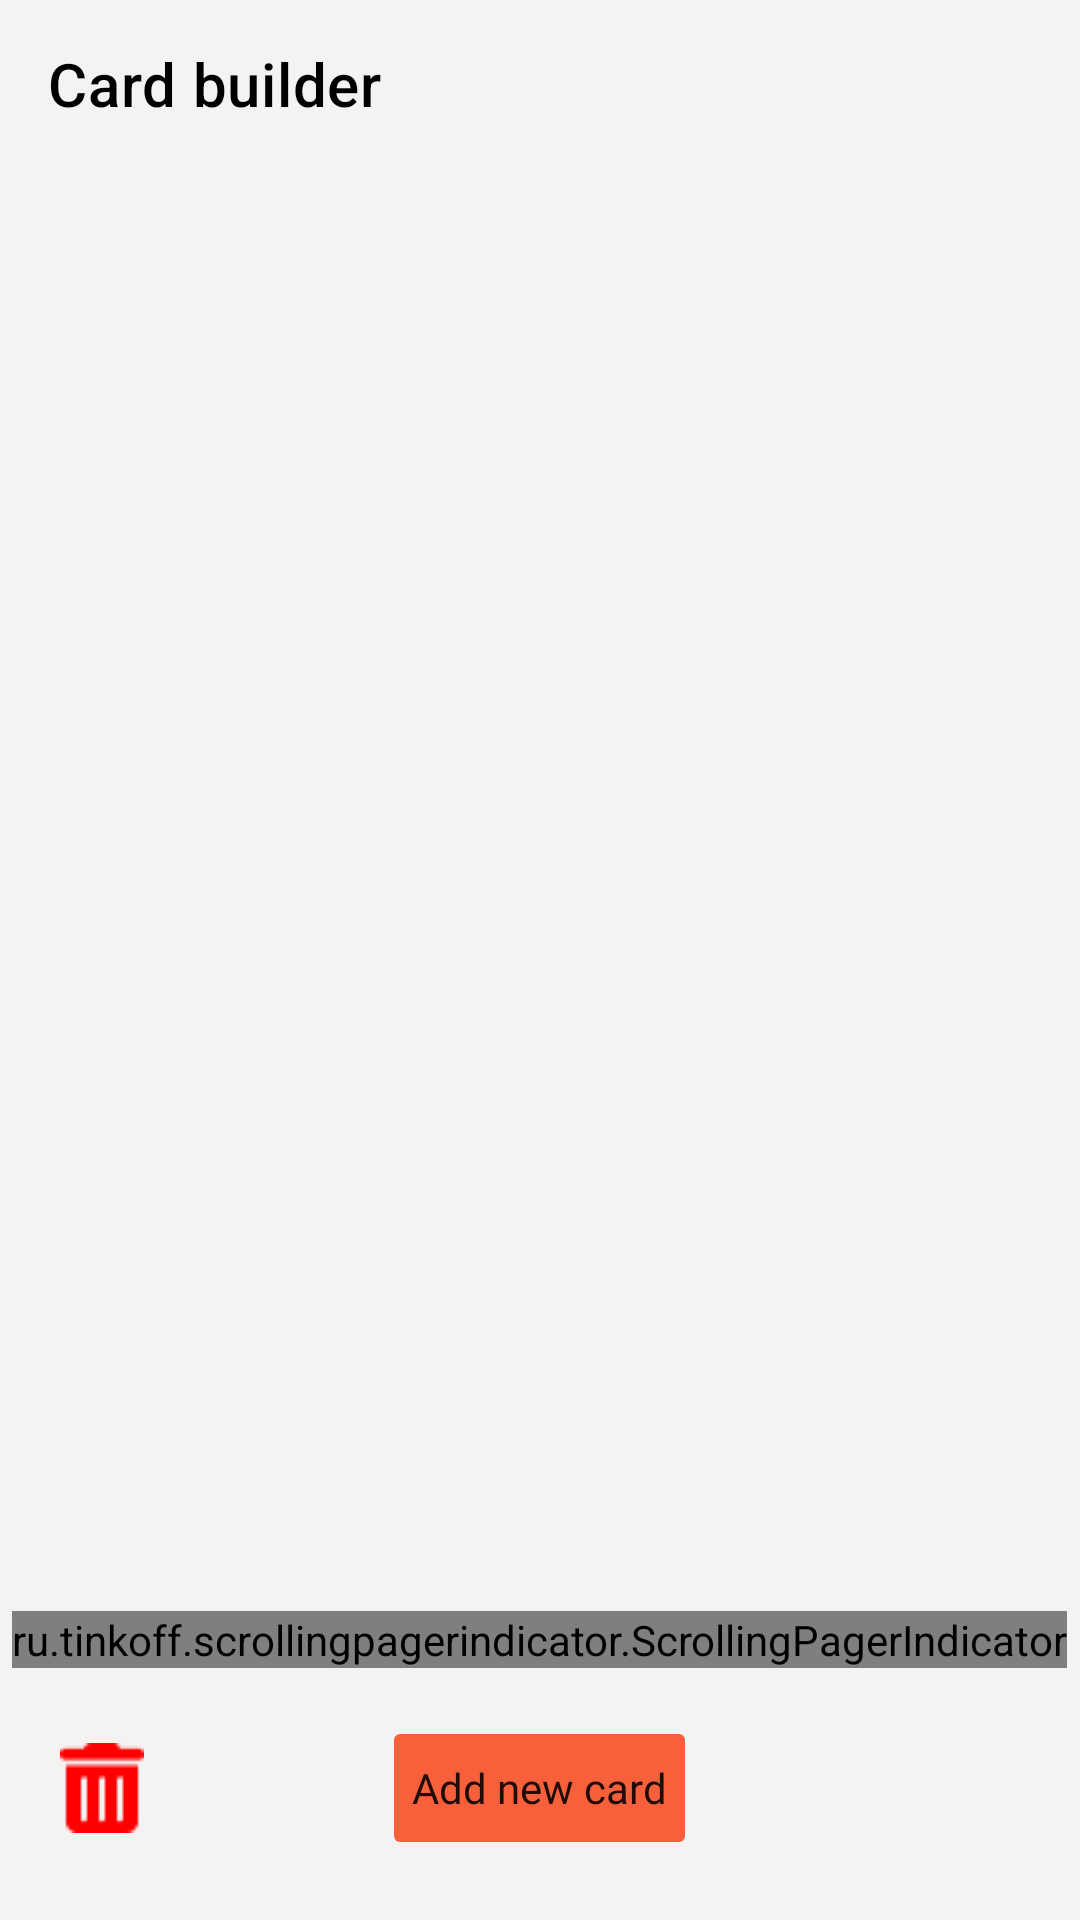

Icons on this 1080px x 1920px Android screen, each with the point to tap as point (x, y):
settings delete: point (102, 1788)
